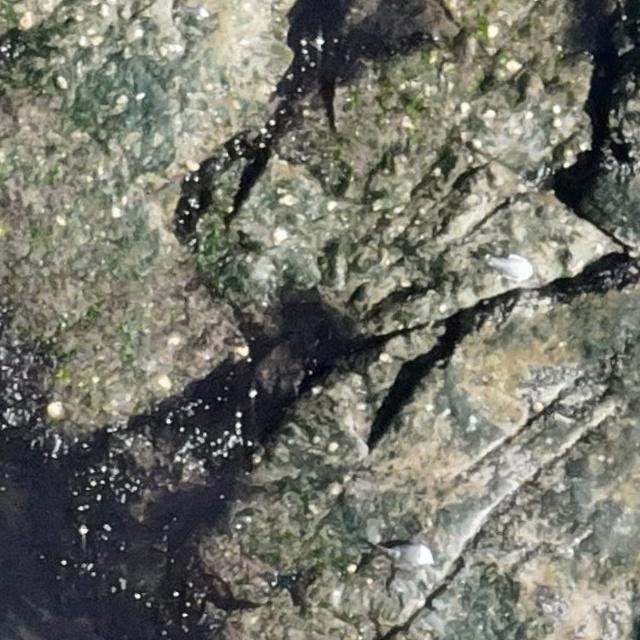umineko: (484, 250, 534, 281), (392, 543, 434, 566)
